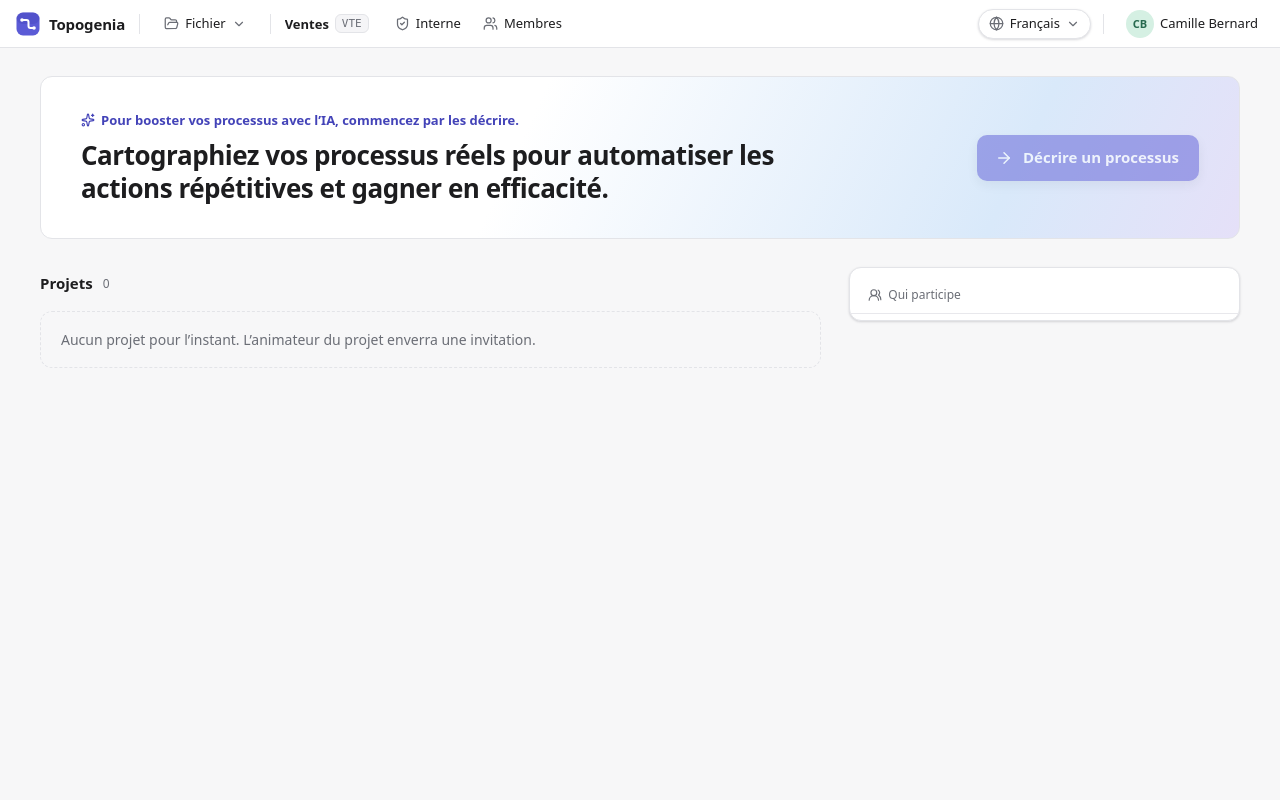
Test: the properties of the project for its facilitator (B-4-69, B-8.1-44, S-4.1-07) › only what changed is sent: an emptied label removes it, and the same level goes nowhere
Expected: the header with test id "app-header" is shown, [0,0,1279,48]
Click the button with test id "header-classification" at (428, 24), box [385,8,471,38]
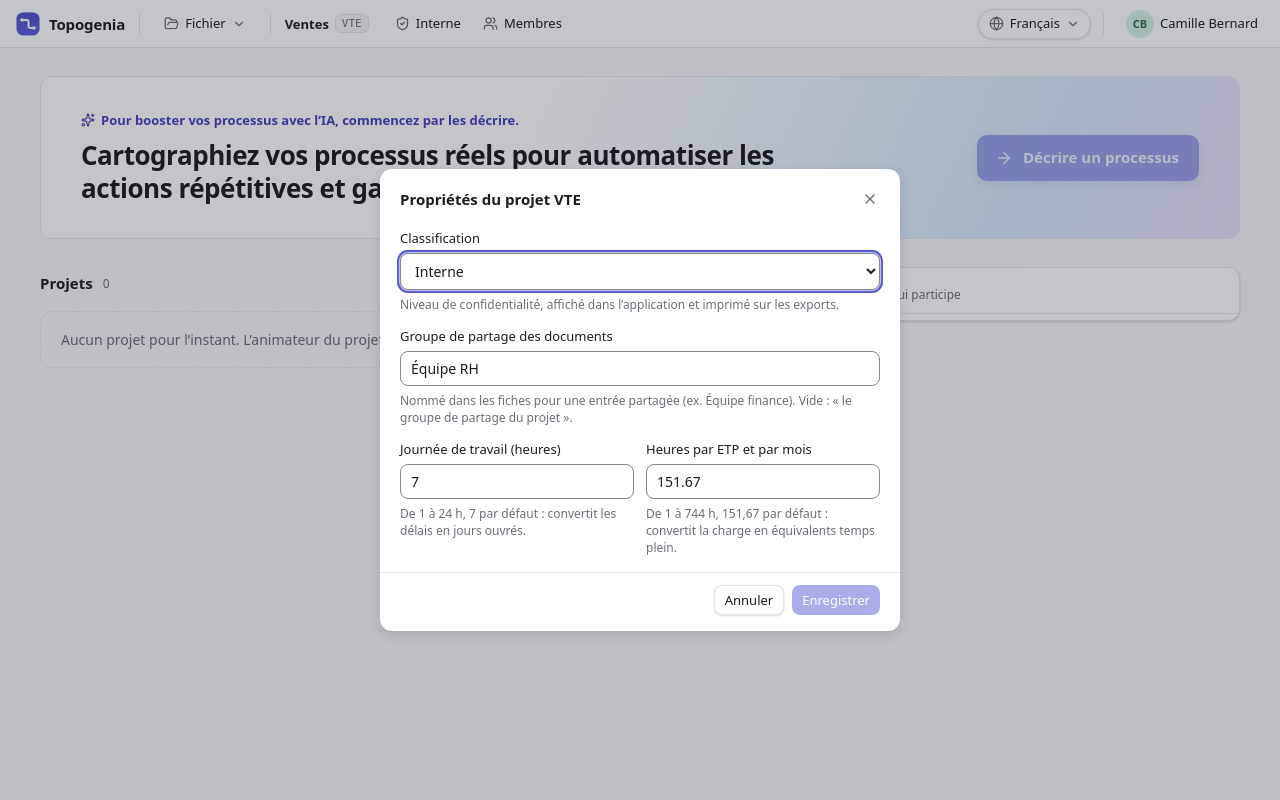
Clear the field labelled "Groupe de partage des documents" at (640, 368), box [400,351,880,386]
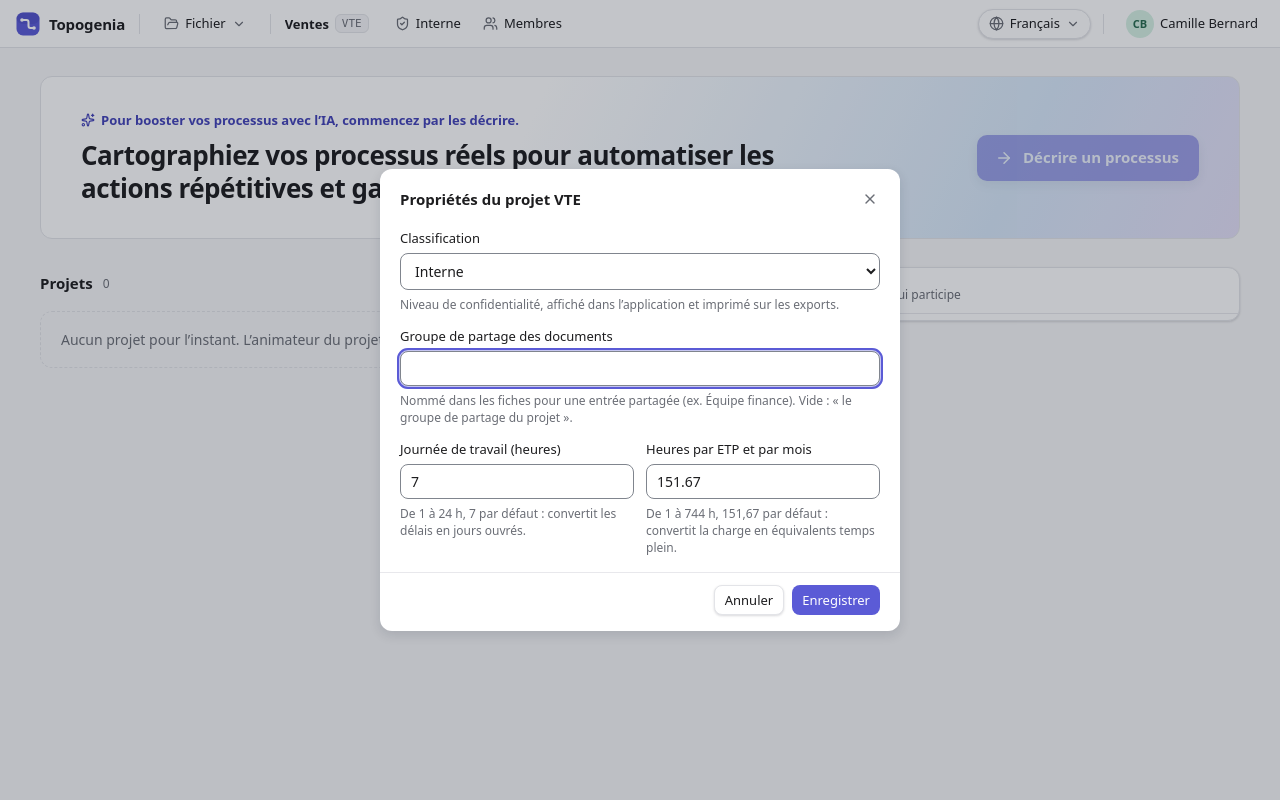
Click the button "Enregistrer" at (836, 600), box [792,585,880,615]
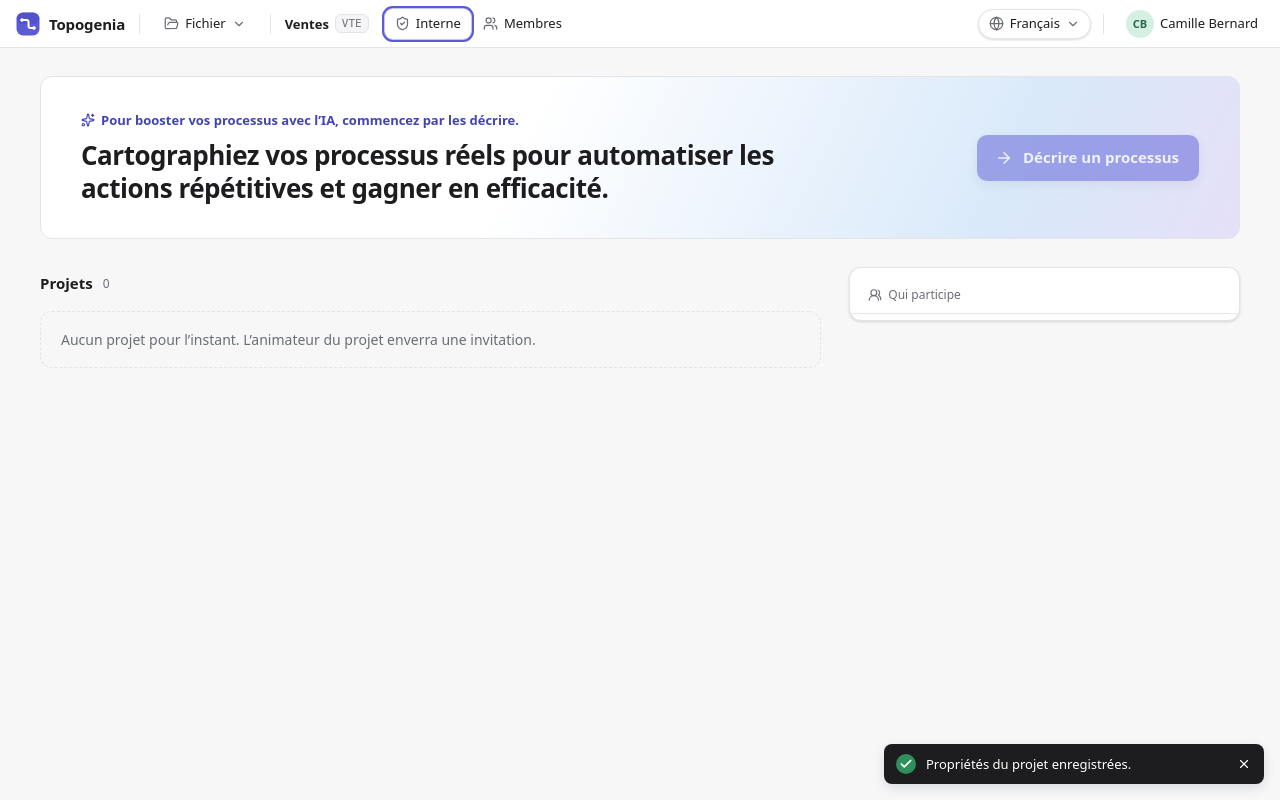
Result: the dialog is gone
